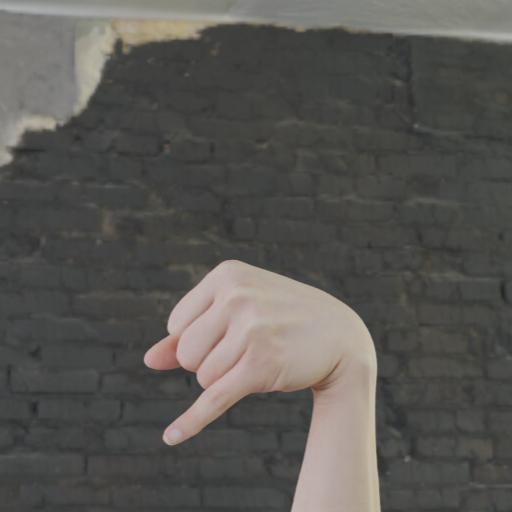J: (130, 248, 397, 454)
